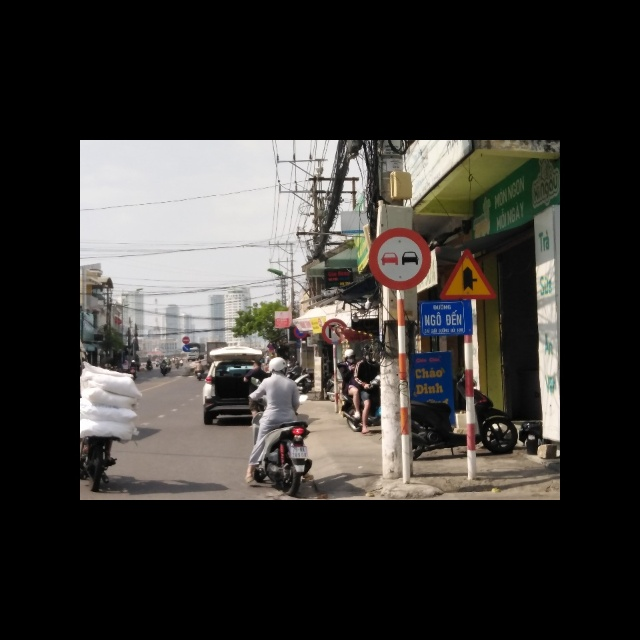Cấm vượt: (368, 226, 431, 290)
Giao nhau với đường không ưu tiên: (441, 247, 500, 300)
